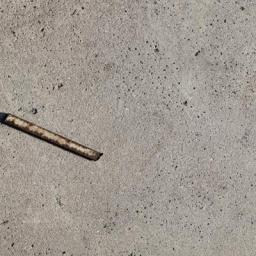FOD: (1, 105, 106, 163)
